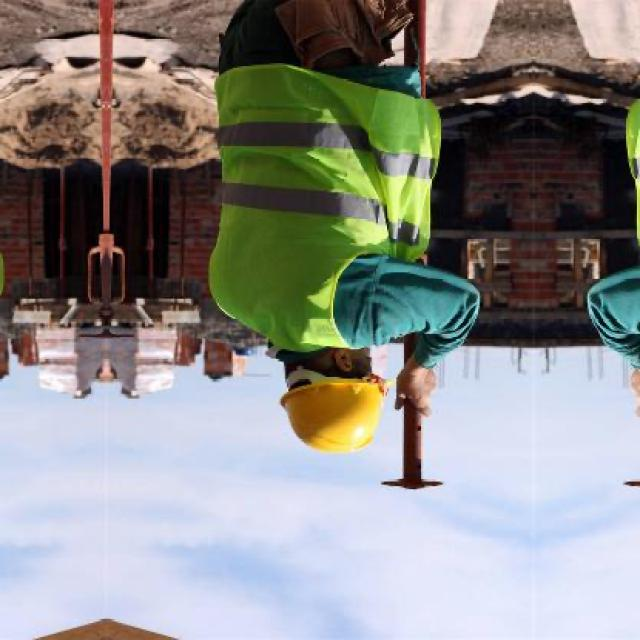con casco: (258, 268, 448, 464)
